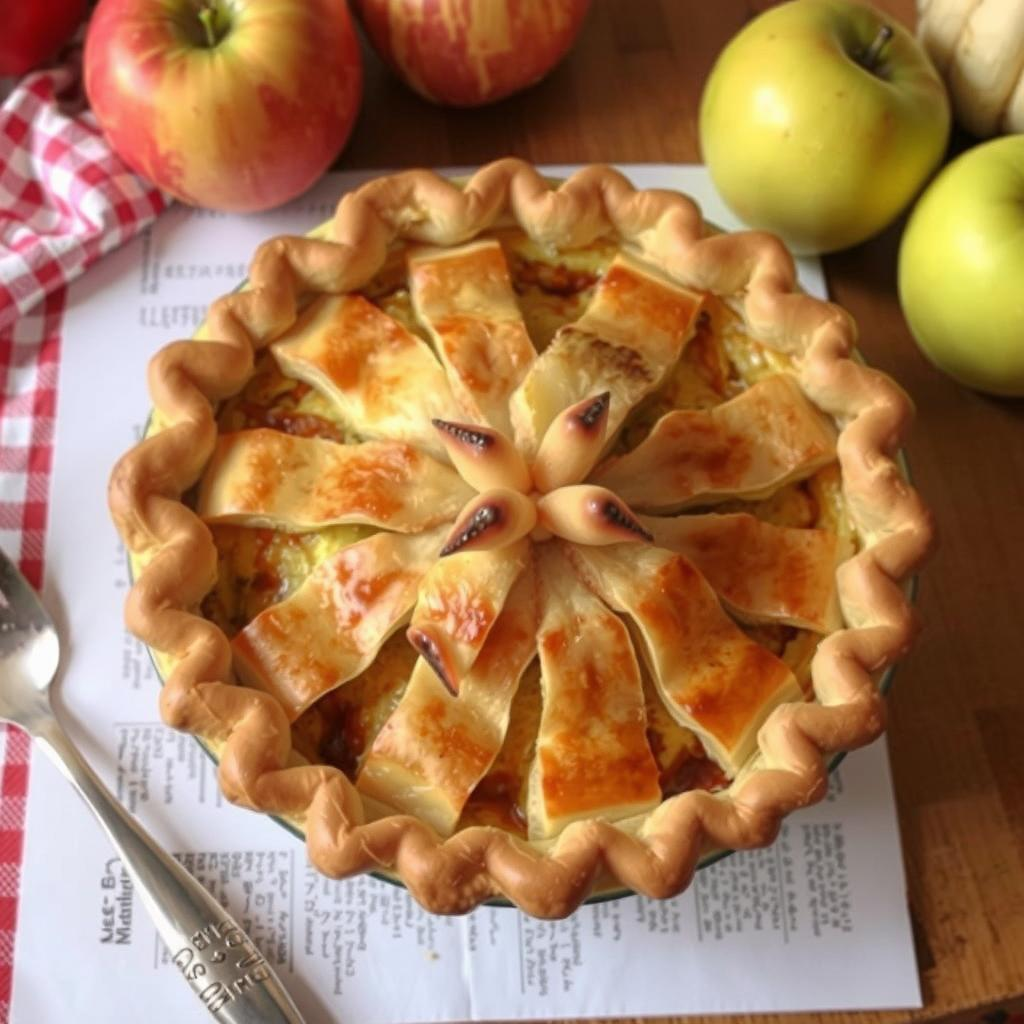cake: (109, 154, 943, 919)
